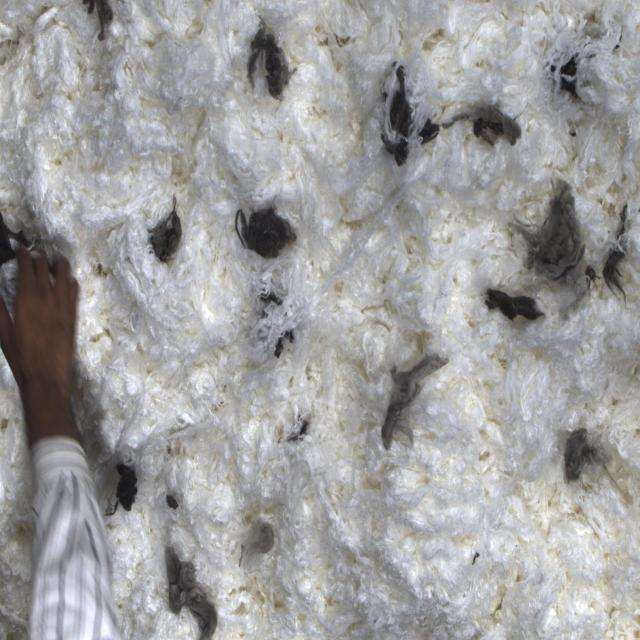dust: (513, 179, 640, 297), (464, 241, 563, 388), (221, 160, 320, 306), (461, 61, 540, 194), (541, 0, 640, 103), (131, 178, 201, 299), (379, 344, 450, 461), (226, 480, 291, 604), (540, 390, 604, 508), (160, 542, 224, 640), (242, 12, 298, 117), (379, 53, 417, 173), (251, 287, 302, 359), (108, 449, 145, 531), (72, 0, 126, 54), (0, 194, 31, 275), (419, 111, 463, 152), (280, 411, 316, 451), (162, 477, 188, 528)
